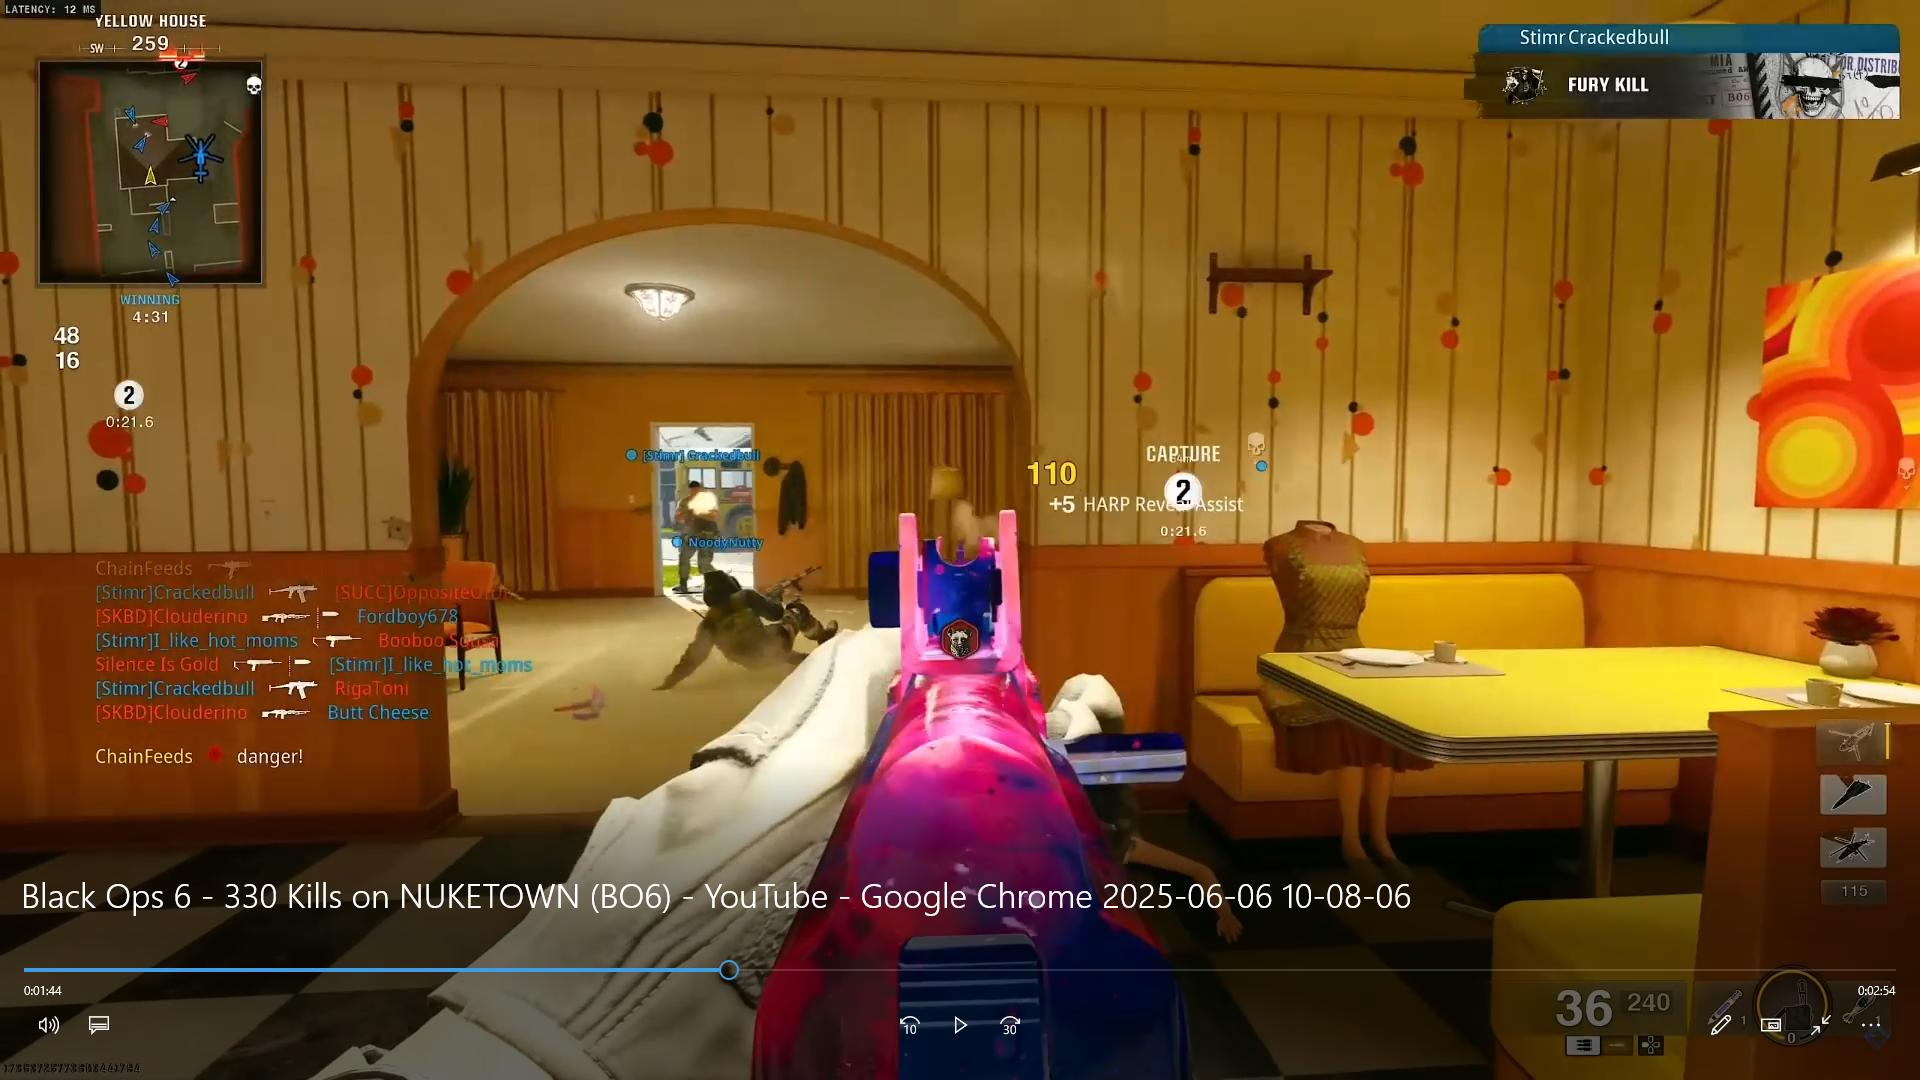Enemy: (654, 550, 840, 692), (666, 472, 731, 537)
